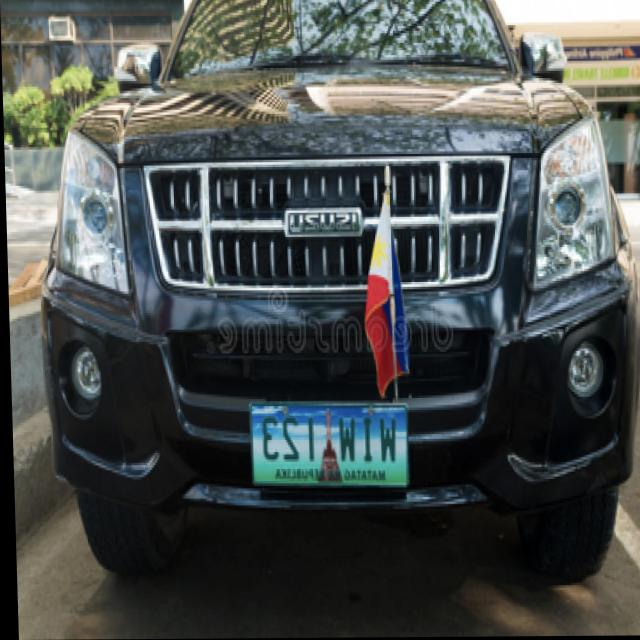licence: (245, 403, 408, 489)
